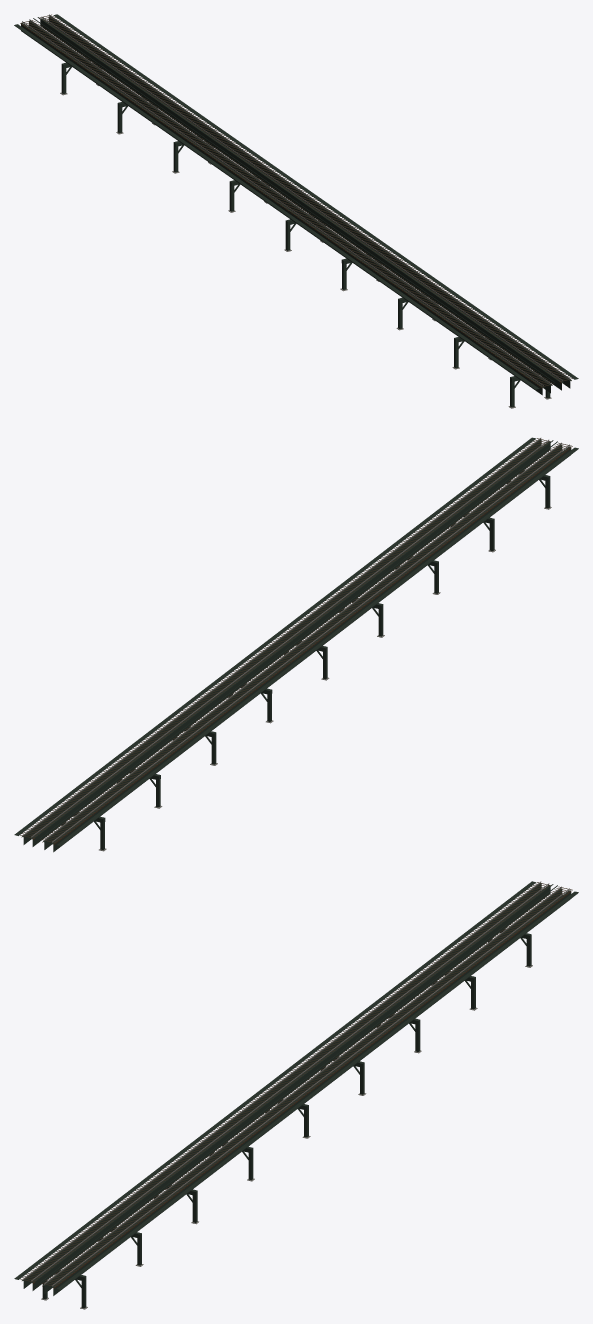
3 views of the same model, one above another, from view 1: azimuth 30°, elevation 25°; view 2: azimuth 150°, elevation 25°; view 3: azimuth 330°, elevation 25° (orthographic). The views are drawn at different scales.
Parts seen in each view (by area): view 1: transit, ties; view 2: transit, ties; view 3: transit, ties.
Part boxes in pixels (box(x1,y1,x2,y2)): transit: box(14, 14, 578, 408); ties: box(20, 14, 572, 387); transit: box(14, 437, 578, 852); ties: box(20, 438, 572, 842); transit: box(14, 881, 578, 1309); ties: box(20, 882, 572, 1286).
Size of what is drawn, in the model's own units: 11.77 by 7.24 by 168.
